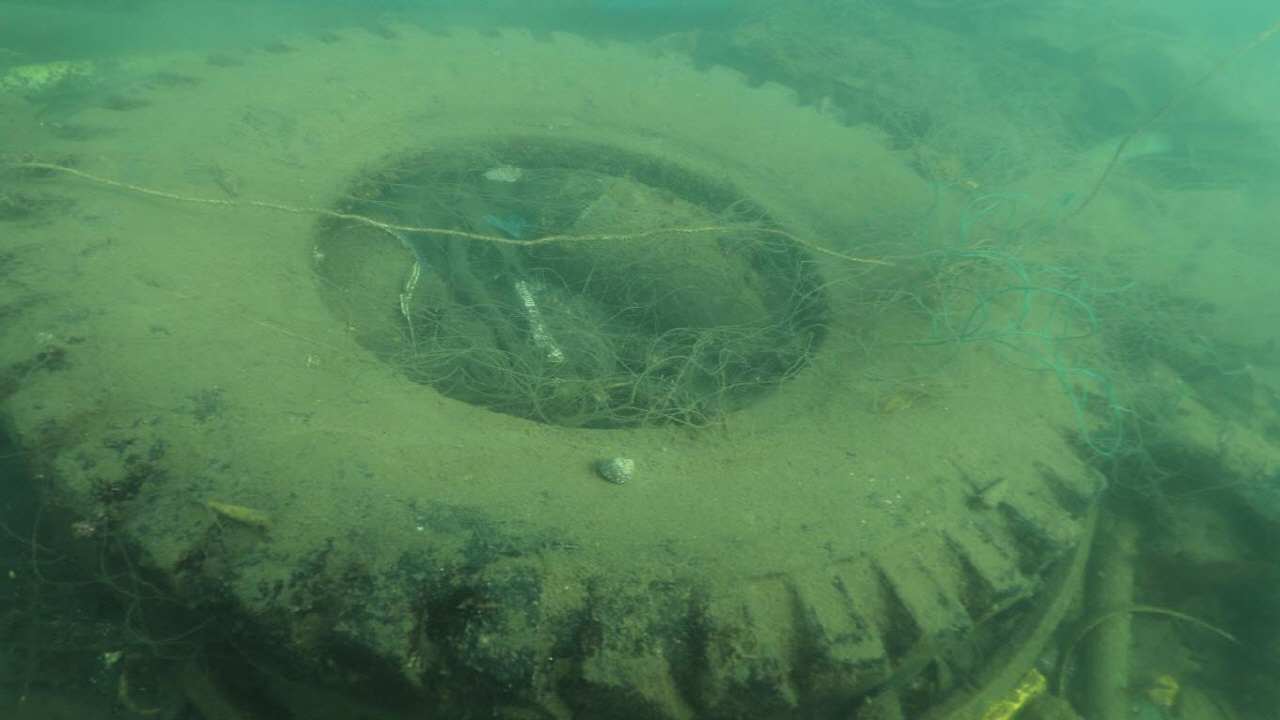tire: (0, 23, 1115, 720)
